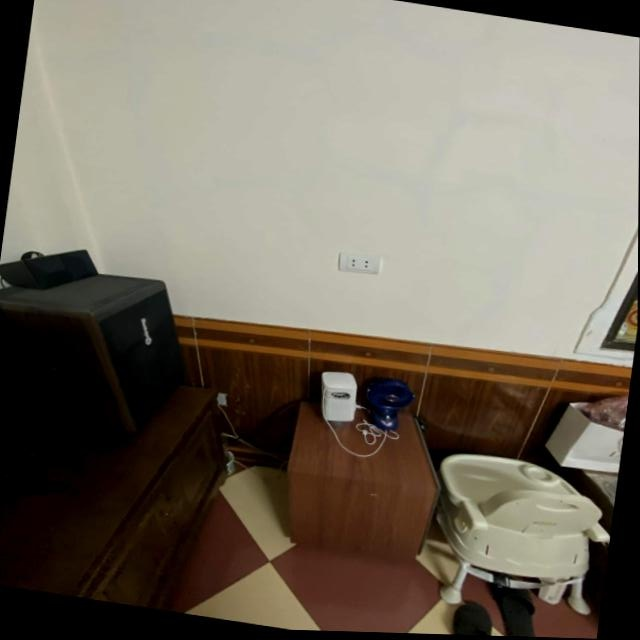outlet: (339, 250, 383, 276)
